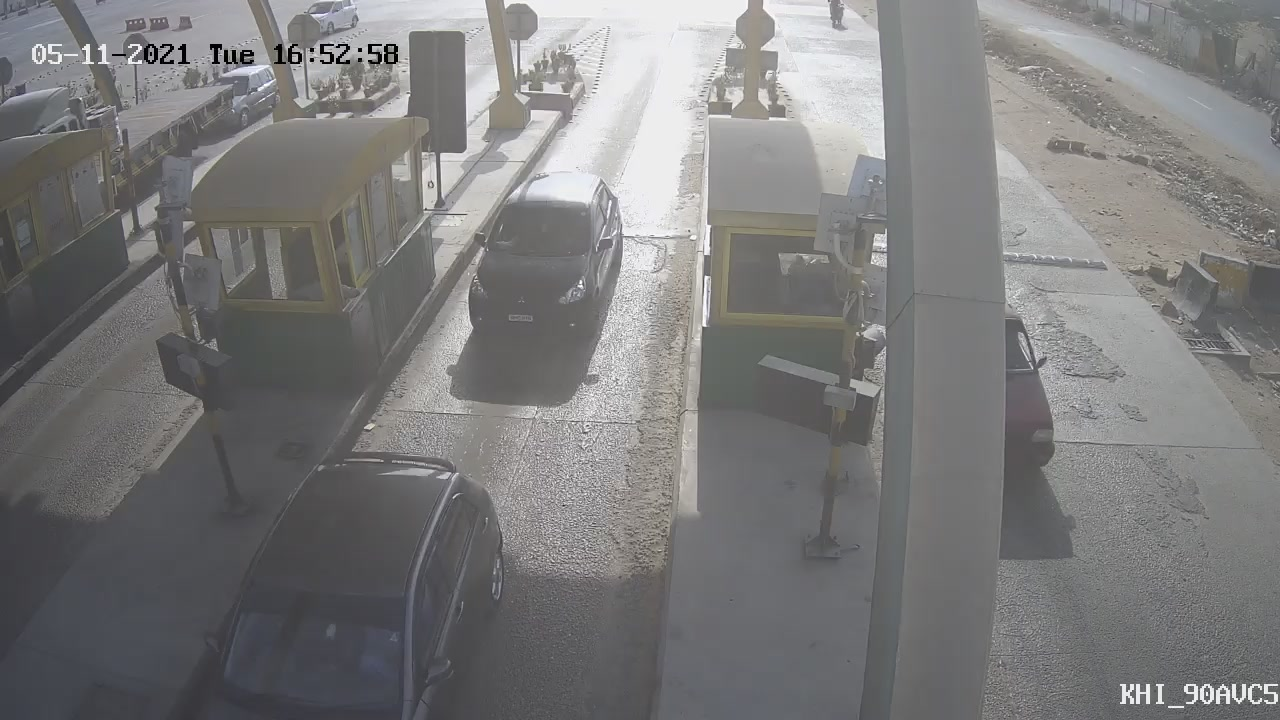F1: (447, 156, 640, 366)
